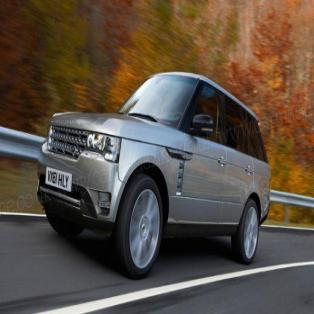Auto: (37, 70, 273, 279)
